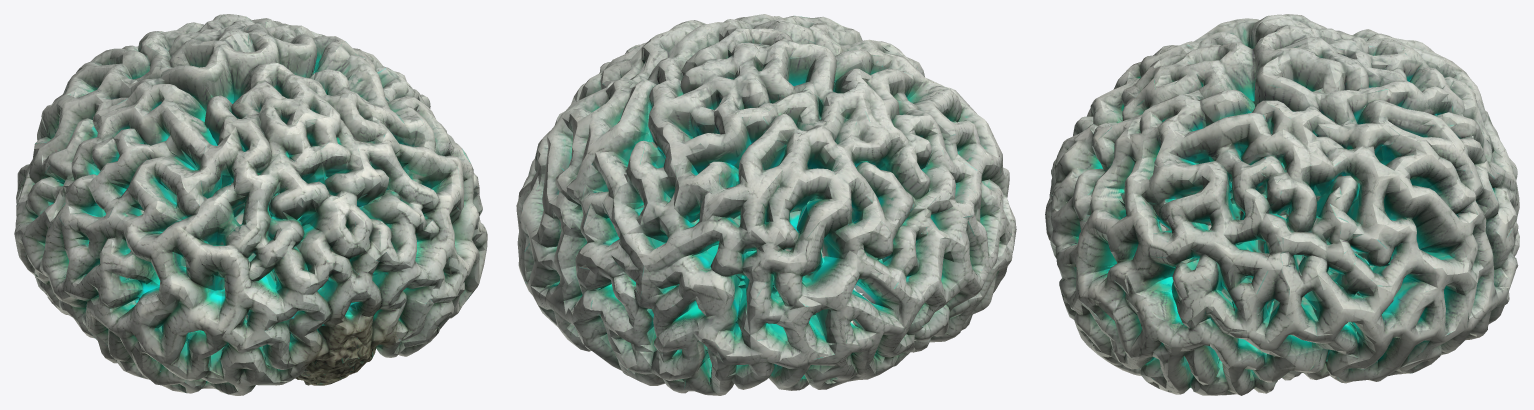
The model's file is bloom_brain_coral.glb.
The picture shows the model from 3 angles, left to right: view 1: azimuth 30°, elevation 25°; view 2: azimuth 150°, elevation 25°; view 3: azimuth 270°, elevation 25°; orthographic projection. The views are drawn at different scales.
Bounding box in the file's own units: 1.9 × 1.36 × 1.87.
Materials: 1 (1 with a texture image).
